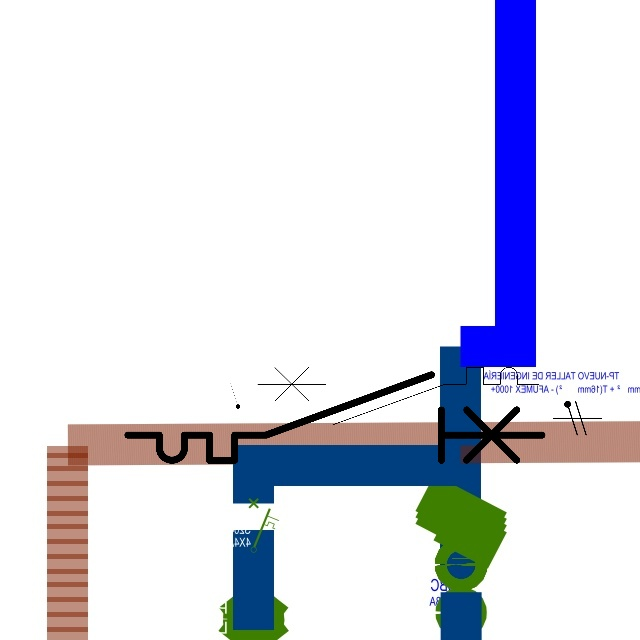interruptor_termomagnetico: (117, 364, 553, 471), (250, 360, 545, 432)
